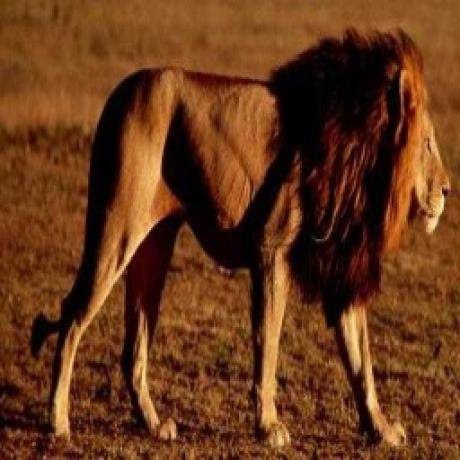Lion: (27, 24, 453, 447)
